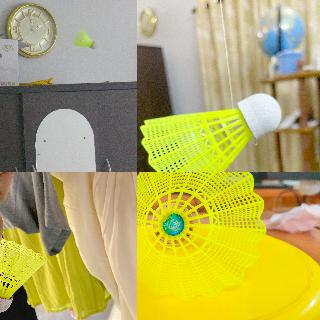shuttlecock: (137, 172, 267, 299), (139, 93, 281, 171), (0, 238, 46, 312), (74, 30, 96, 48)
